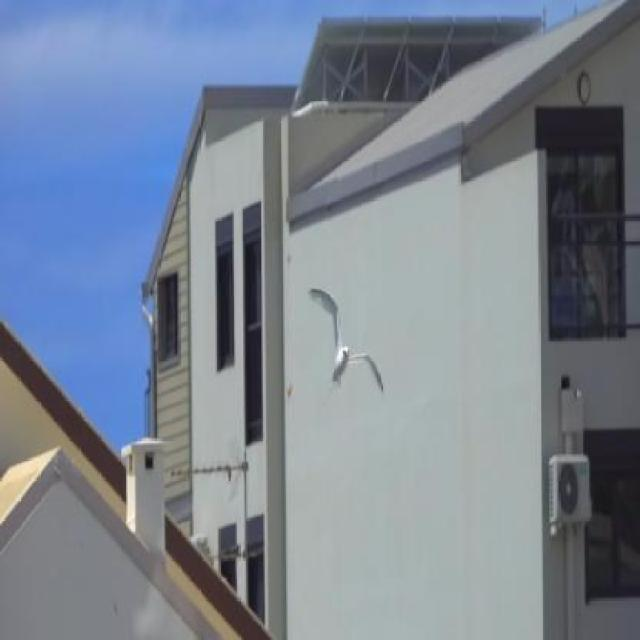bird: (302, 267, 387, 413)
